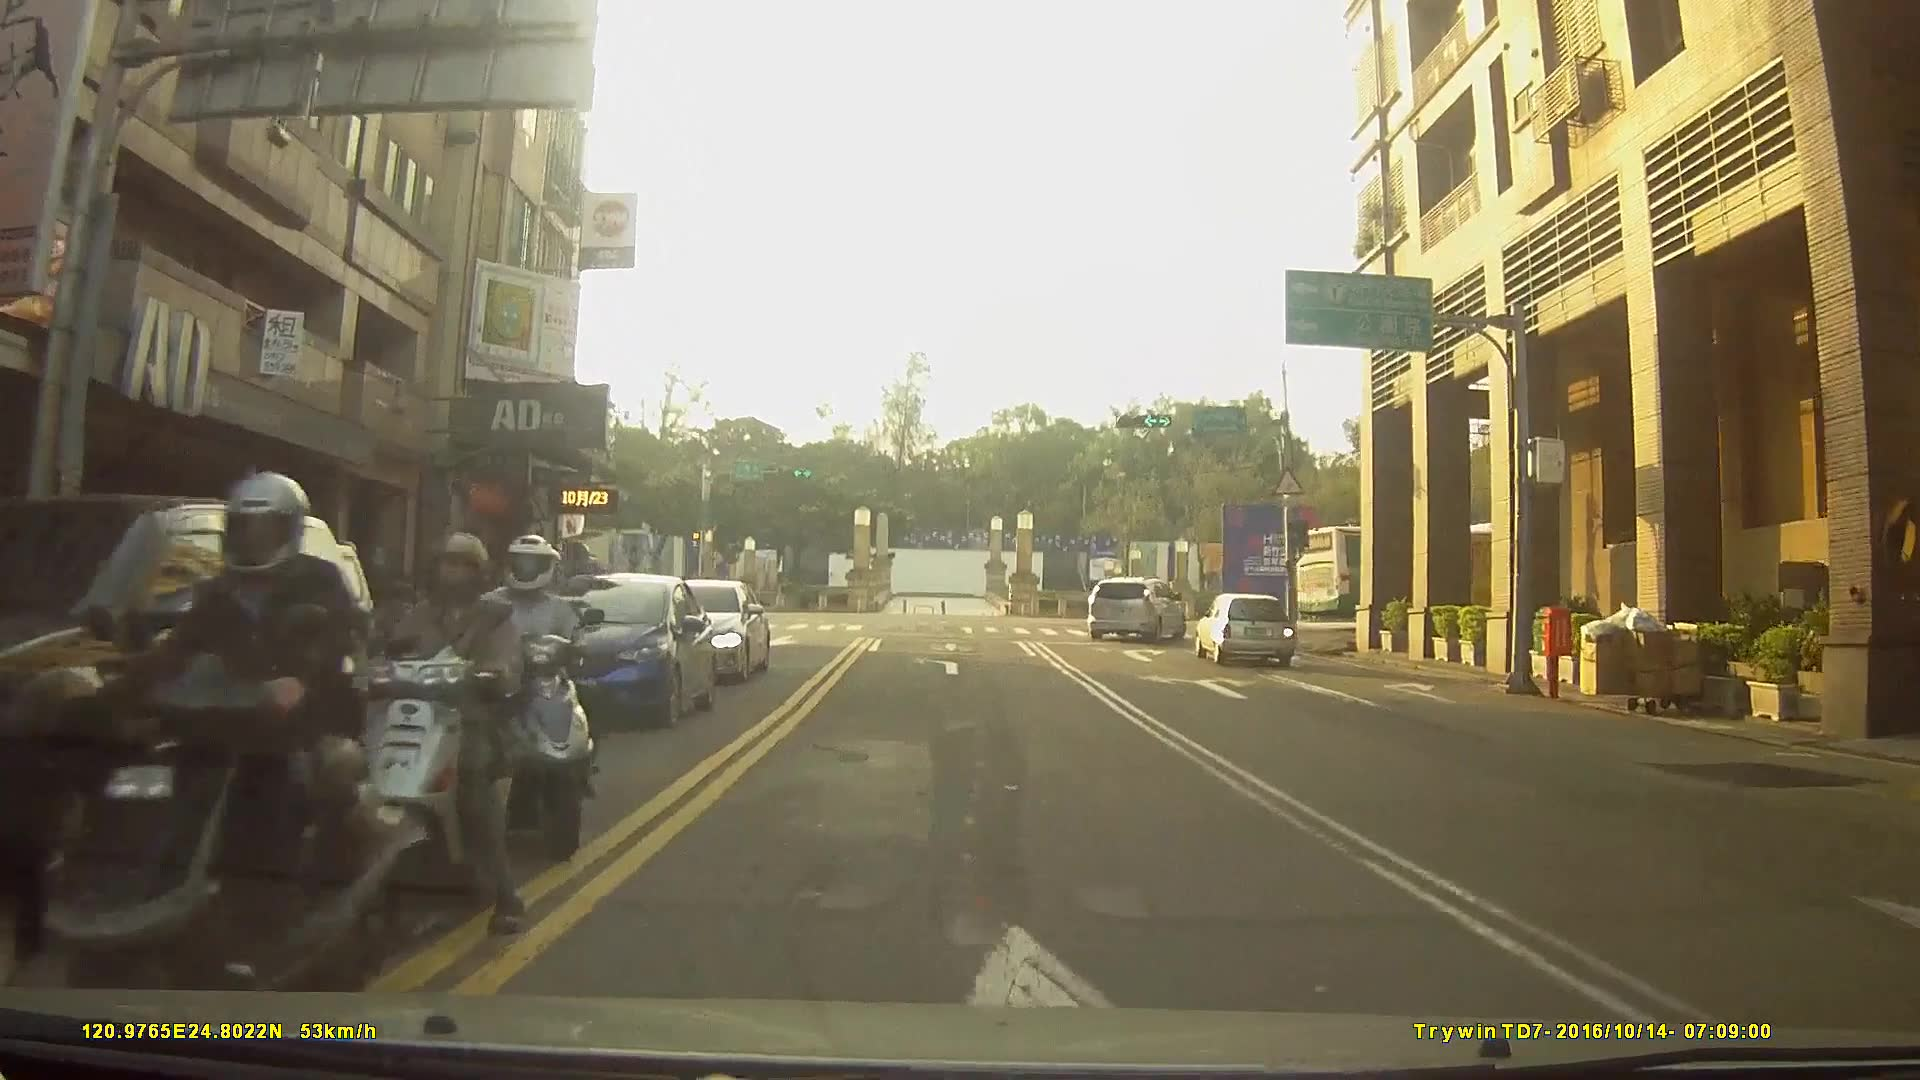rider: (64, 470, 402, 1056), (339, 532, 522, 945), (457, 532, 608, 860)
vehicle: (507, 570, 716, 727), (1296, 523, 1562, 622), (625, 575, 767, 680), (1193, 593, 1295, 668), (1088, 577, 1186, 642)
